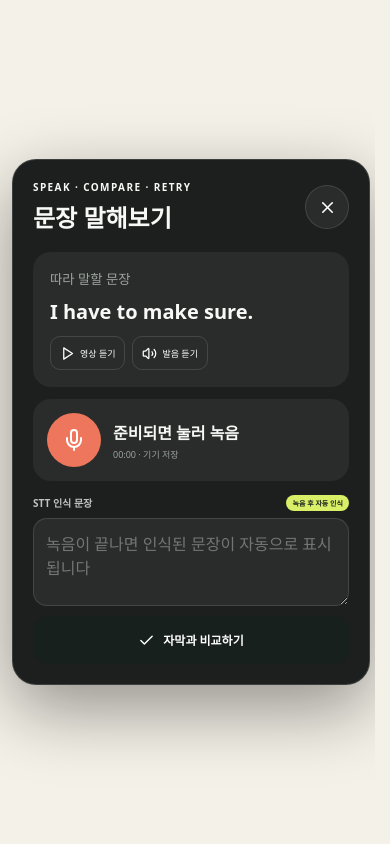
Scenario: Saving a recording on the device › tells the learner when the microphone produced no audio
Click the button with class "speech-record-main": coordinates (74, 440) [47,413,101,467]
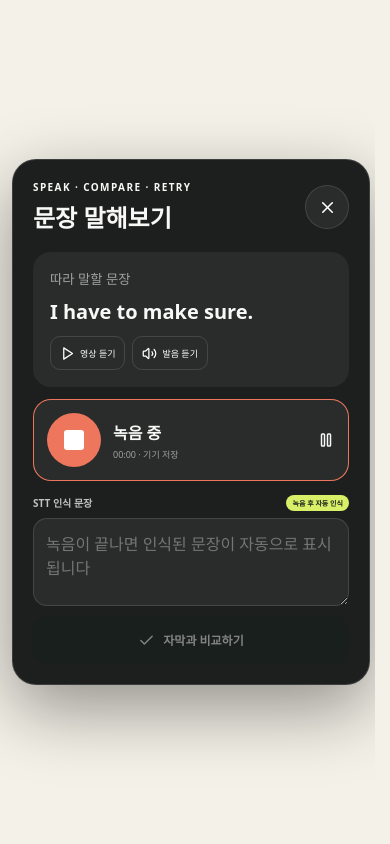
Click the button with class "speech-record-main": coordinates (74, 440) [47,413,101,467]
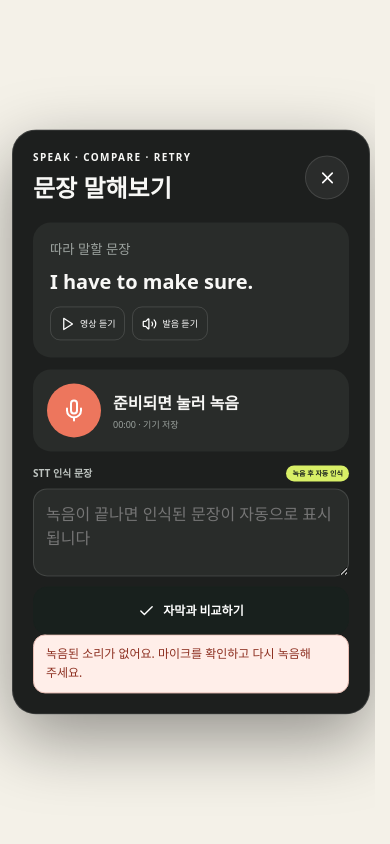
Expected: the text "녹음된 소리가 없어요. 마이크를 확인하고 다시 녹음해 주세요." is shown, [33,634,349,694]
